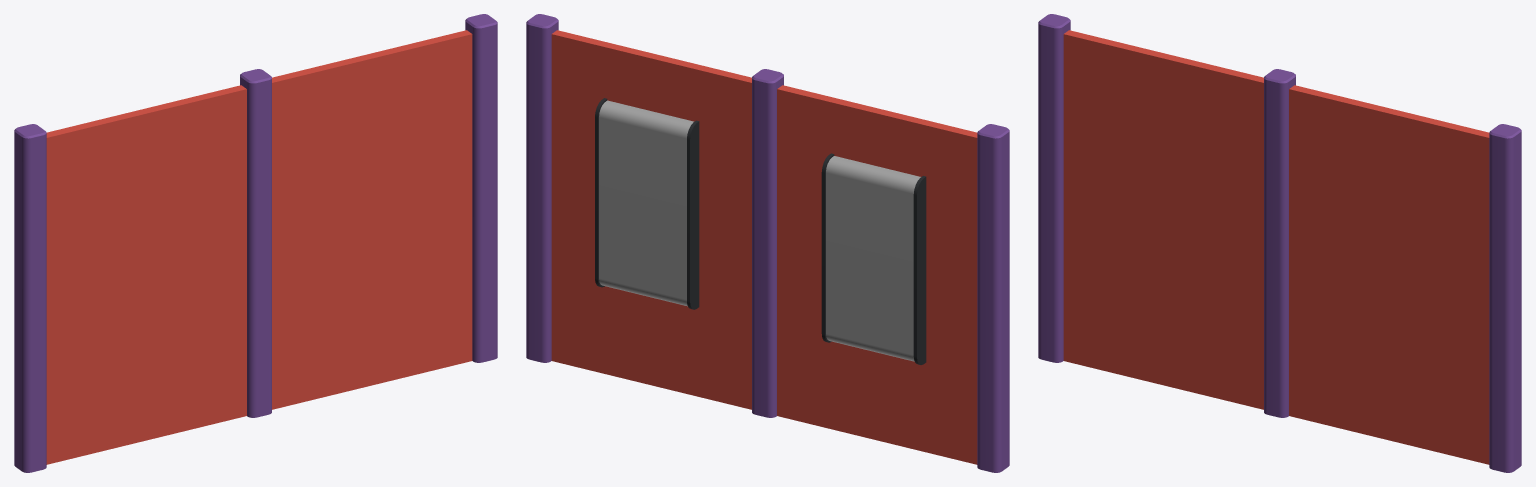
File: SM_Gate_2H.fbx
3 views of the same model, side by side, from view 1: azimuth 30°, elevation 25°; view 2: azimuth 150°, elevation 25°; view 3: azimuth 330°, elevation 25° (orthographic).
Visible parts, largest first — view 1: SM_Gate_2H; view 2: SM_Gate_2H; view 3: SM_Gate_2H.
Boxes of the visible parts, x1=… form: SM_Gate_2H: x1=14, y1=14, x2=497, y2=472; SM_Gate_2H: x1=526, y1=14, x2=1009, y2=472; SM_Gate_2H: x1=1038, y1=14, x2=1521, y2=472.
Bounding box in the file's own units: 598 × 404 × 41.35.
